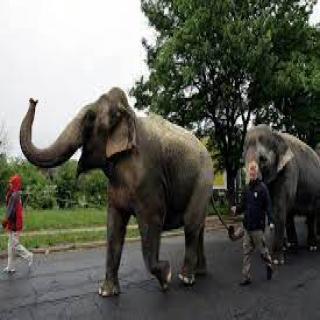Elephant: (20, 84, 226, 301)
